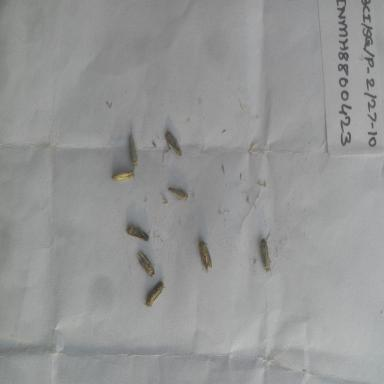pbw: (162, 127, 189, 163), (142, 277, 167, 309), (258, 235, 278, 275), (198, 236, 218, 273), (136, 250, 158, 280), (126, 129, 140, 169), (126, 220, 150, 243), (167, 185, 190, 203), (110, 170, 136, 184)
